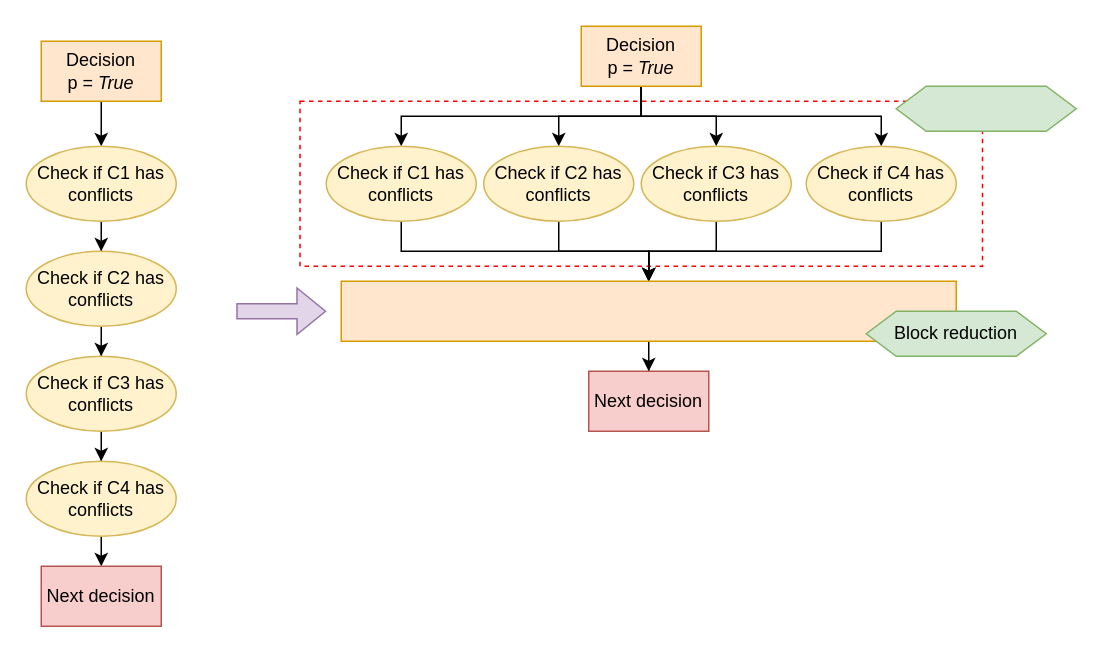
Some shapes in this 1103 by 653 pixel diagram are drawn without their labels. The shapes that lost their labels are listed below. From the top down, each one's box as (x1, y1, x2, y2) in pixels, then its label:
(895, 85, 1076, 131): SIMD Thread tasks
(340, 280, 956, 341): Reduce local decisions
